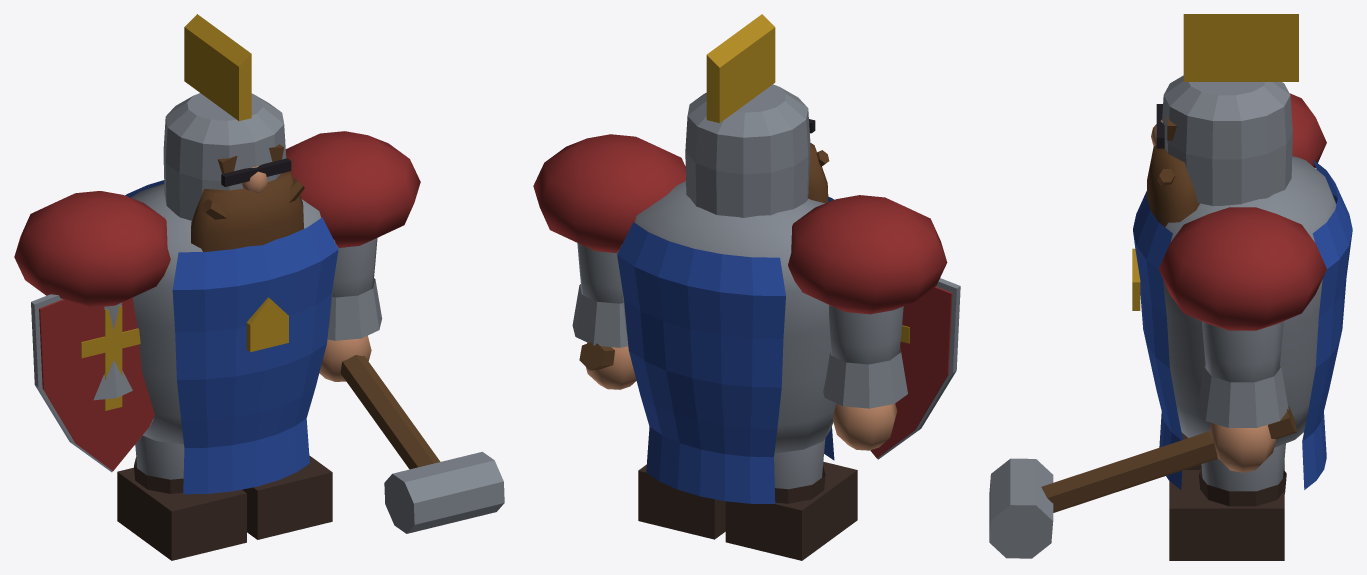
Rendered from dwarf_knight.glb.
3 views of the same model, side by side, from view 1: azimuth 30°, elevation 25°; view 2: azimuth 150°, elevation 25°; view 3: azimuth 270°, elevation 25° (orthographic). The views are drawn at different scales.
Visible parts, largest first — view 1: Body, ArmL, ArmR, Head, LegL, LegR; view 2: Body, ArmL, Head, ArmR, LegL, LegR; view 3: ArmR, Head, Body, LegR, ArmL.
Part boxes in pixels (bbox=[...]): Body: bbox=[125, 180, 344, 494]; ArmL: bbox=[14, 191, 170, 472]; ArmR: bbox=[285, 131, 504, 533]; Head: bbox=[163, 14, 304, 251]; LegL: bbox=[117, 435, 246, 560]; LegR: bbox=[242, 455, 332, 539]; Body: bbox=[611, 181, 836, 503]; ArmL: bbox=[788, 195, 960, 459]; Head: bbox=[685, 14, 829, 217]; ArmR: bbox=[533, 134, 685, 389]; LegL: bbox=[725, 438, 857, 560]; LegR: bbox=[638, 465, 725, 539]; ArmR: bbox=[989, 207, 1326, 558]; Head: bbox=[1146, 14, 1298, 226]; Body: bbox=[1132, 156, 1352, 489]; LegR: bbox=[1169, 443, 1286, 560]; ArmL: bbox=[1290, 93, 1326, 168].
Size of the model in its own units: 1.82 by 2.14 by 1.39.
